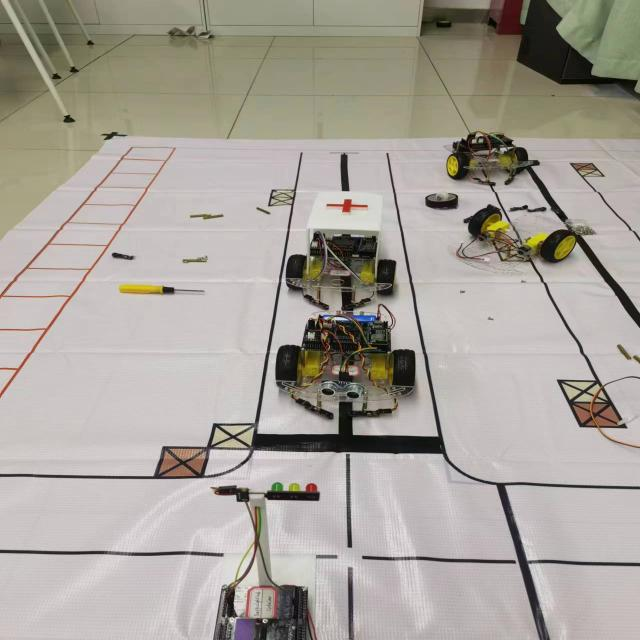RedCross: (324, 193, 374, 219)
